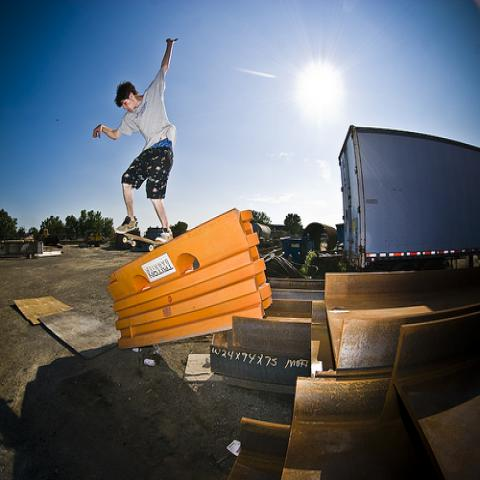truck: (337, 125, 479, 272)
